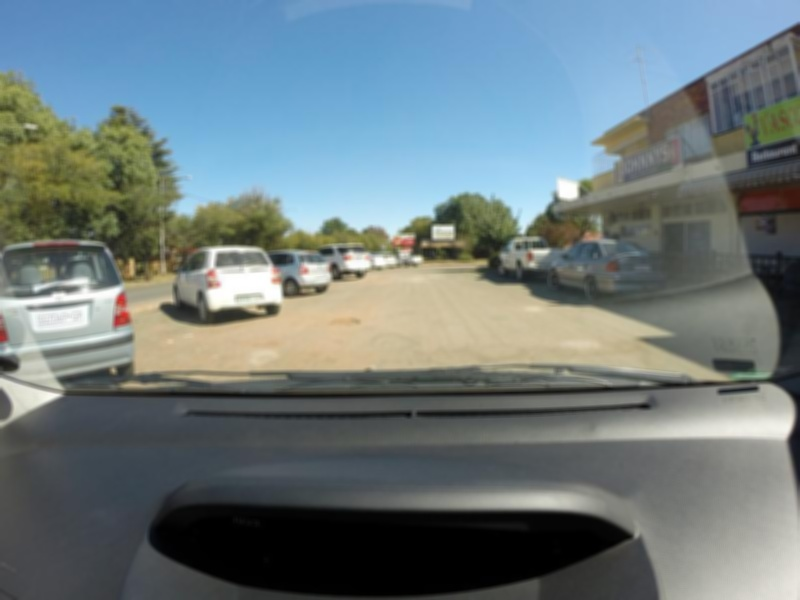pothole: (325, 312, 362, 328)
